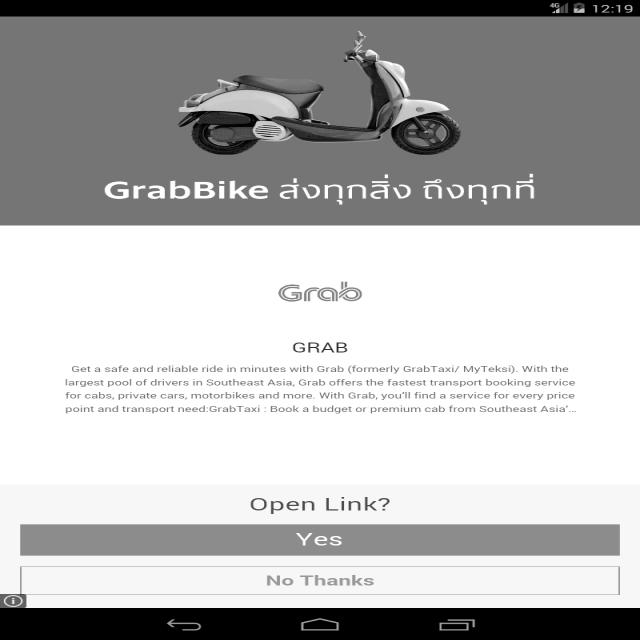Button: (14, 520, 624, 558), (14, 564, 626, 598)
ImageView: (179, 37, 460, 157)
TextView: (55, 361, 582, 417), (94, 178, 542, 202), (242, 494, 396, 514), (272, 279, 370, 303), (290, 338, 355, 354)
